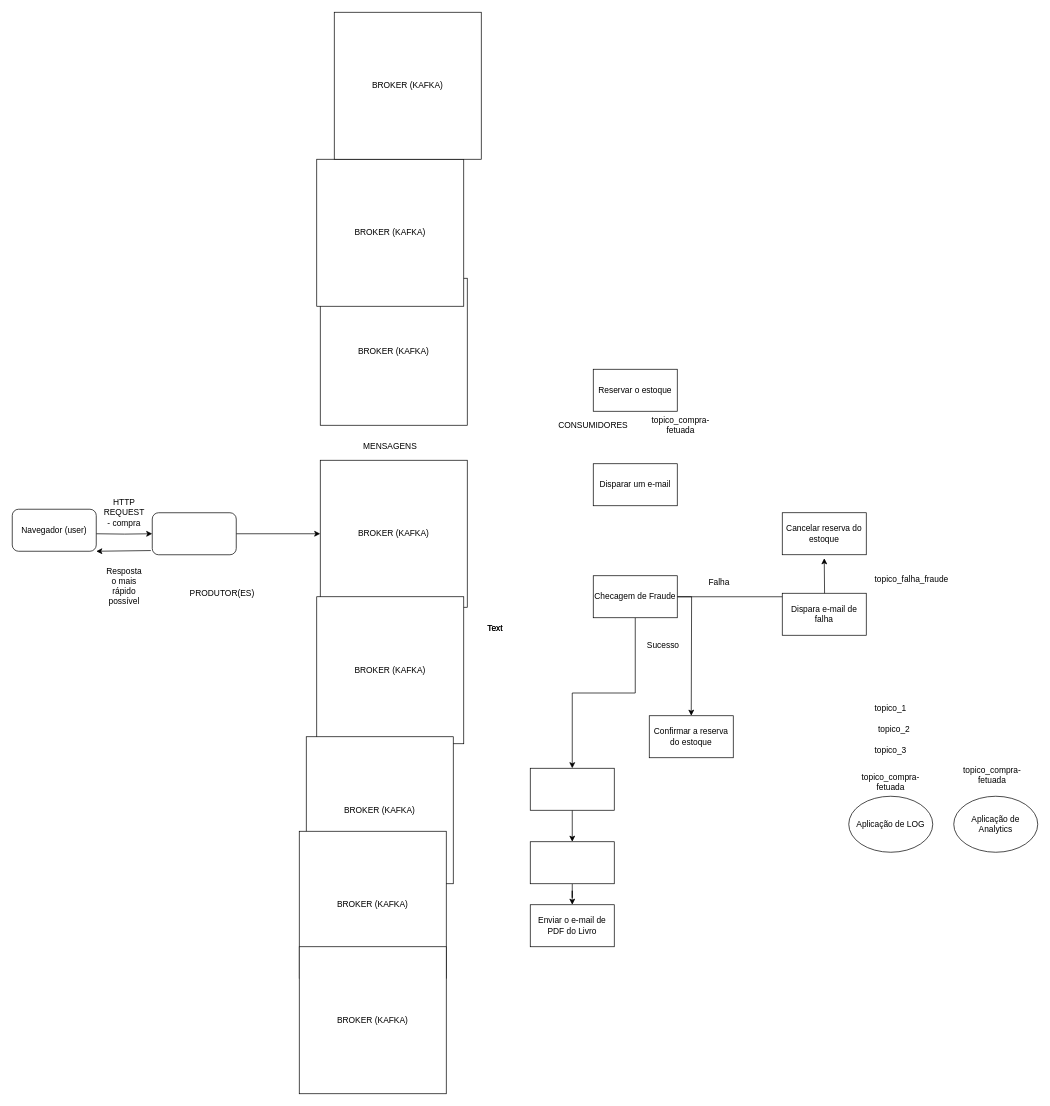
Image size: 1050x1106. Some labels were removed from this diagram. Each missing label, with the centre of its shape:
Efetua pagamento: [572,789]
Geração de PDF do Livro: [572,862]
Servidor HTTP: [194,533]
